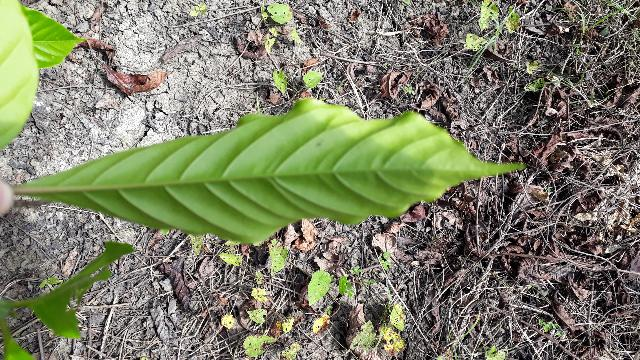healthy: (11, 99, 529, 240)
